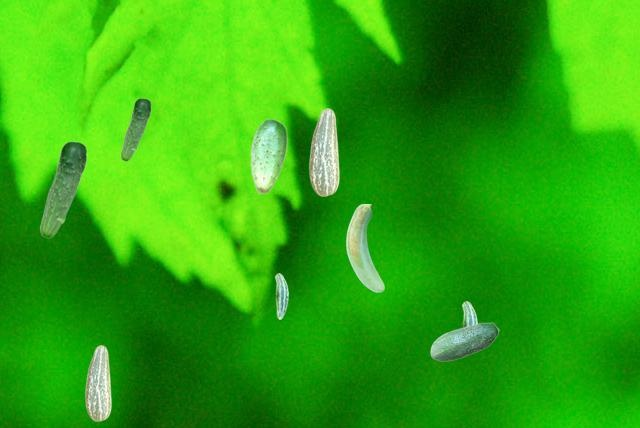cucumber: (39, 141, 86, 237), (346, 204, 383, 291), (250, 118, 286, 193), (430, 322, 498, 360), (309, 108, 338, 195), (85, 345, 110, 420), (120, 98, 150, 160), (275, 273, 287, 318), (462, 301, 476, 326)
